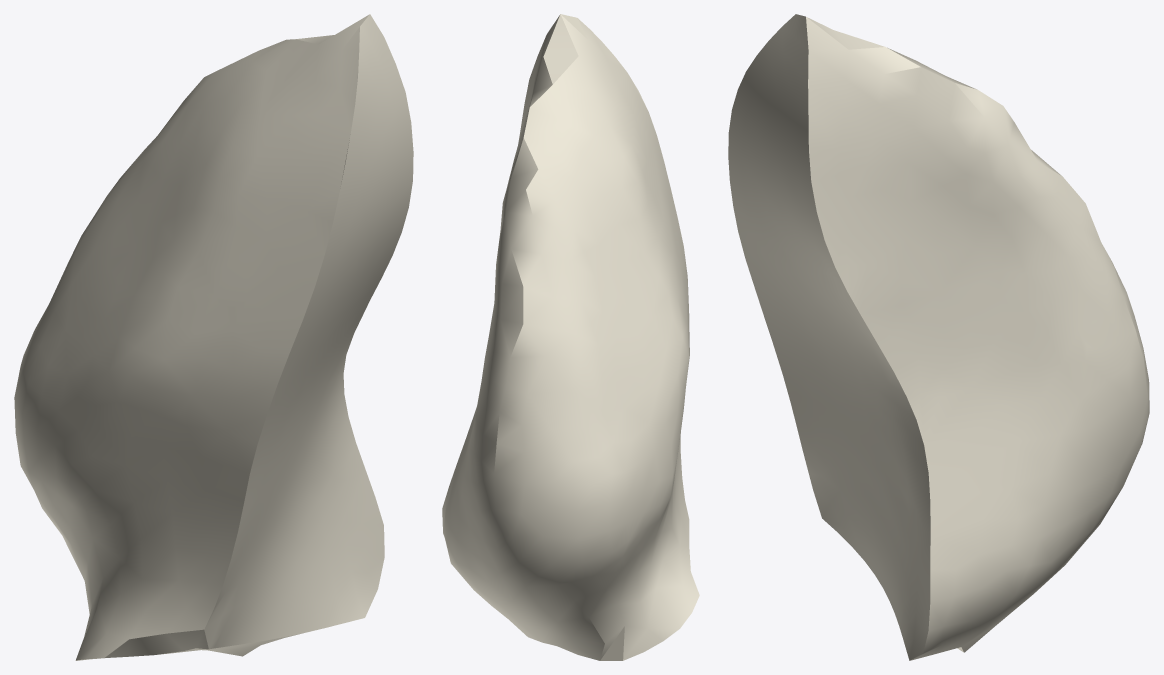
Rendered from fma16326_mm2334m.glb.
3 views of the same model, side by side, from view 1: azimuth 30°, elevation 25°; view 2: azimuth 150°, elevation 25°; view 3: azimuth 270°, elevation 25° (orthographic). The views are drawn at different scales.
Visible parts, largest first — view 1: FMA16326_MM2334M; view 2: FMA16326_MM2334M; view 3: FMA16326_MM2334M.
Part boxes in pixels (x1,y1,x2,y2): FMA16326_MM2334M: (14,14,413,660); FMA16326_MM2334M: (442,14,699,660); FMA16326_MM2334M: (728,14,1149,660).
Size of the model in its own units: 0.00646 by 0.0142 by 0.00824.
